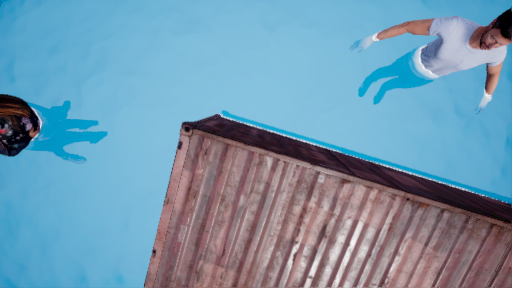person: (348, 13, 508, 129)
